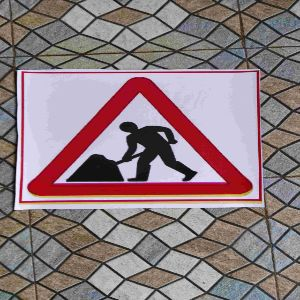men at work: (15, 70, 262, 201)
